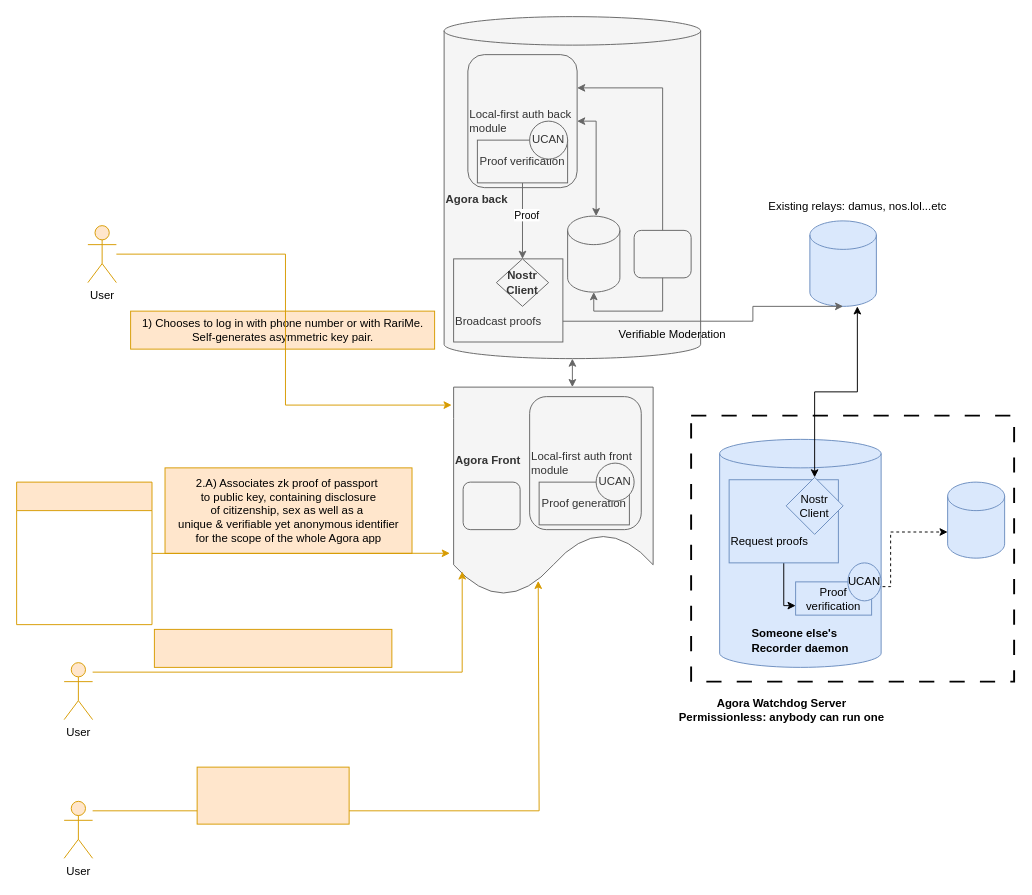
This 1032x895 diagram has some shape labels left out. Here are the shapes that lost their labels. From the top down, the centre of each, then its label:
At point (593, 253): "Agora's own DB".
At point (662, 253): "HTTP API".
At point (842, 263): "Someone else's Nostr Relay".
At point (491, 505): "UI & API Interaction".
At point (976, 519): "Someone else's own DB".
At point (84, 553): "User's RariMe Wallet".
At point (272, 647): "2.B) Verifies phone number's ownership. Associates phone number with public key.".
At point (272, 795): "3) Use local-first account (pub key & signatures) to interact with app".
